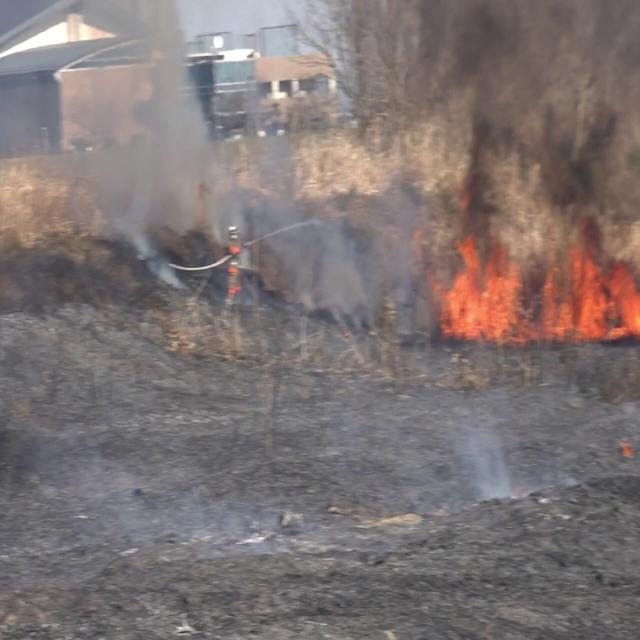Fire: (432, 221, 640, 352)
Smoke: (248, 108, 454, 364), (41, 0, 240, 245)
